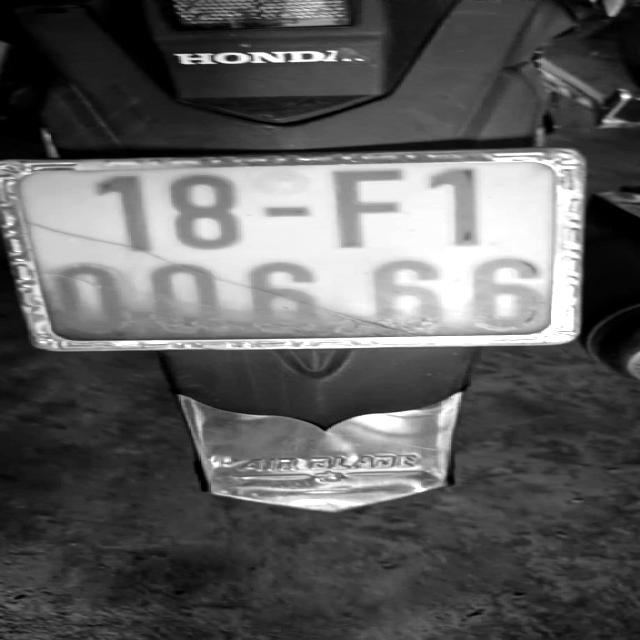license_plate: (0, 140, 629, 362)
